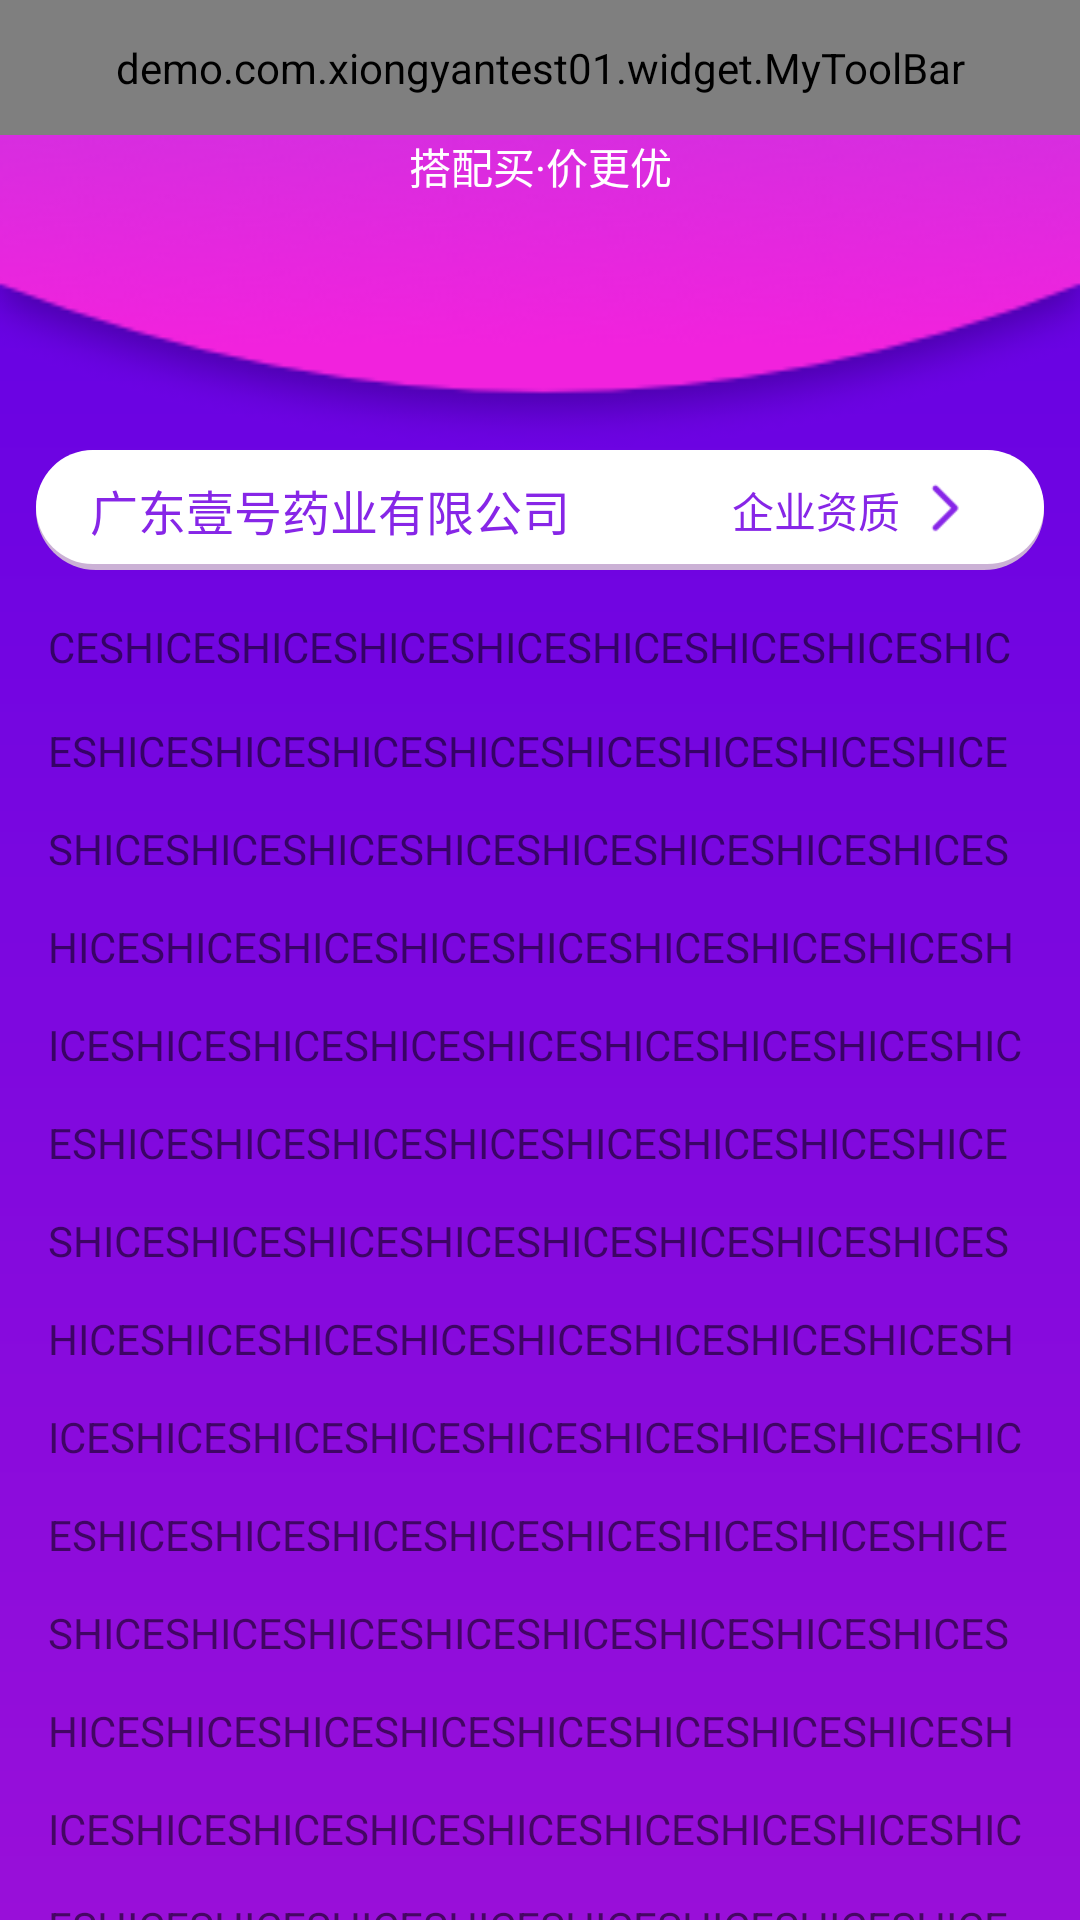

Where icons sit on this 1080*1920 app screen, as box(x1, y1, x2, y2):
set together arrow right: box(932, 484, 959, 532)
